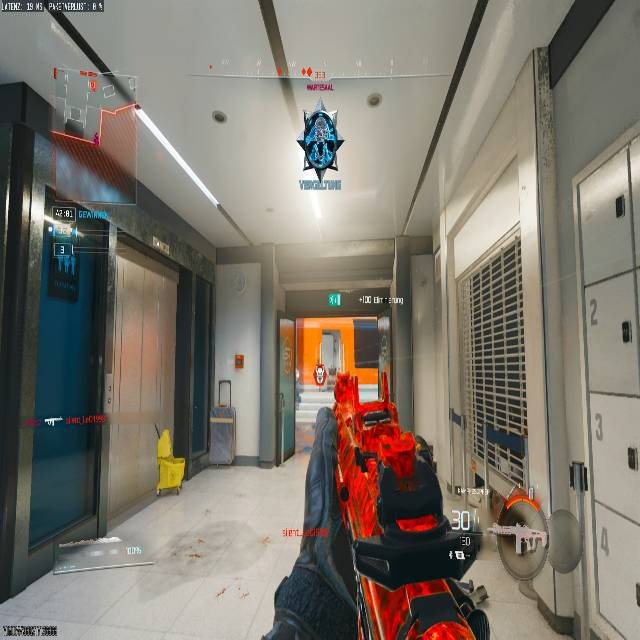head: (493, 496, 549, 579)
player: (296, 109, 343, 184)
